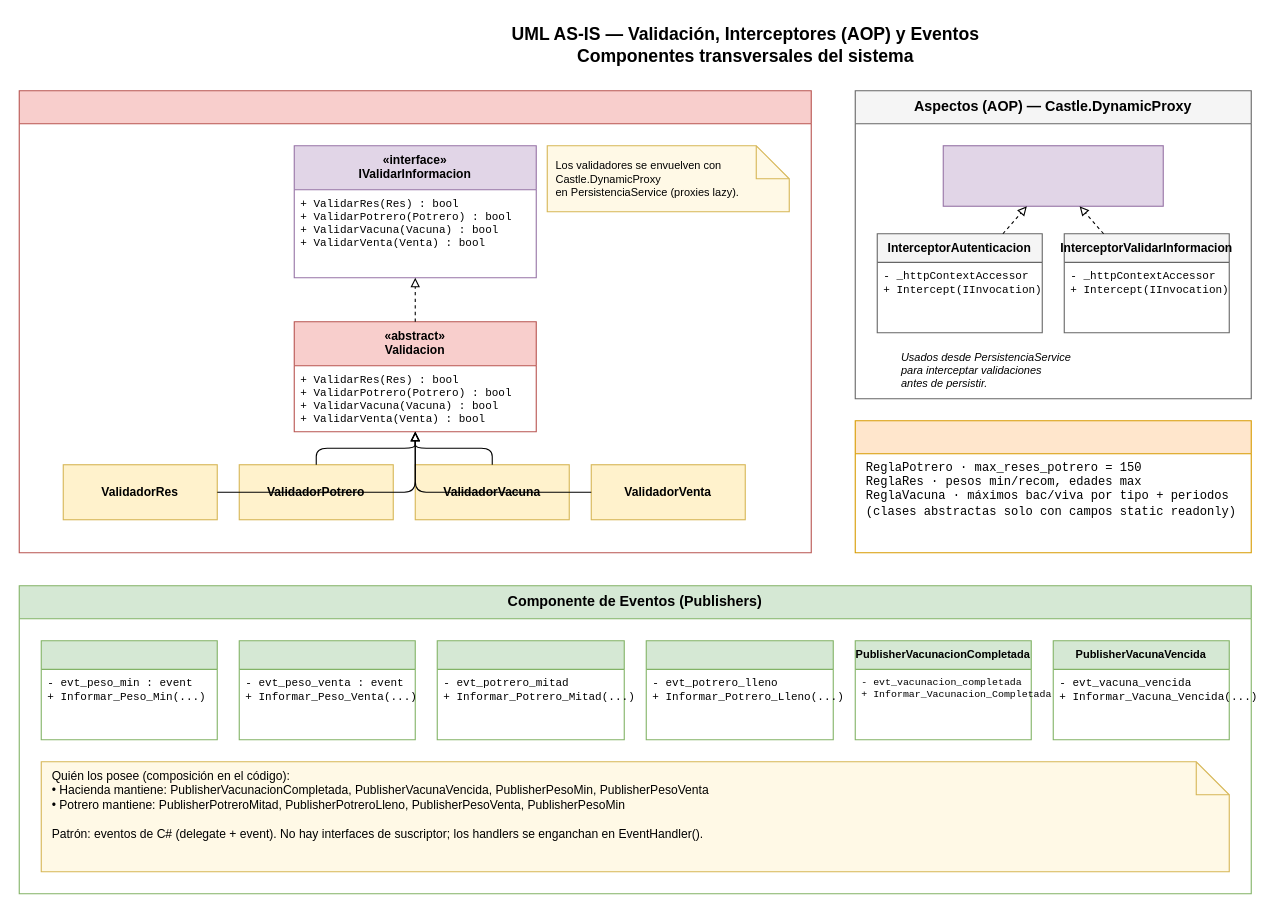
This 1277x913 diagram has some shape labels left out. Each missing label, with the box of its shape:
Componente de Validación: (18, 90, 811, 553)
PublisherPesoMin: (40, 640, 217, 740)
PublisherPesoVenta: (238, 640, 415, 740)
PublisherPotreroLleno: (645, 640, 833, 740)
PublisherPotreroMitad: (436, 640, 624, 740)
Reglas (constantes estáticas de negocio): (854, 420, 1251, 553)
«interface» Castle.DynamicProxy.IInterceptor (externa): (942, 145, 1163, 206)
